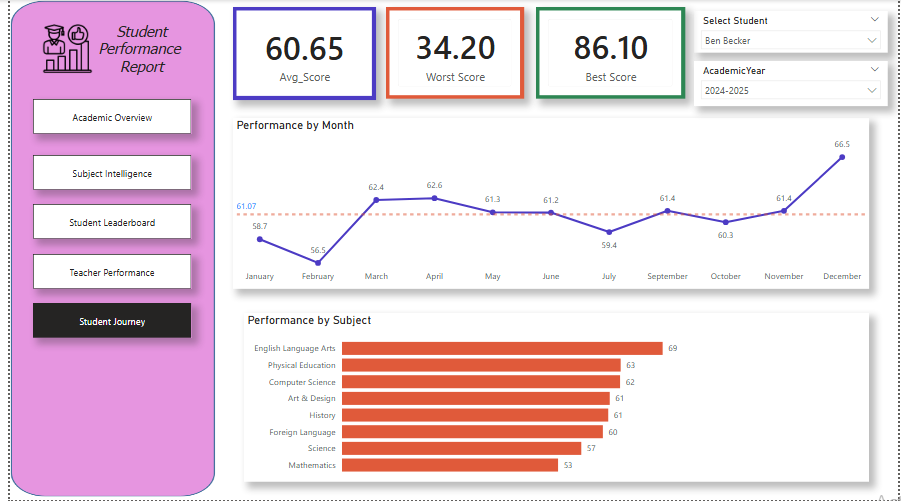

What the dashboard file says about the page in this screenshot:
{"tool":"powerbi","page":{"name":"Student Journey","canvas":[1280,720],"ordinal":4},"visuals":[{"type":"slicer","fields":{"Values":["DimStudents.FullName"]},"box":[985,15.8,279.4,60.5],"z":0},{"type":"cardVisual","title":"Avg Score","fields":{"Data":["Measures (2).Avg_Score"]},"box":[321.1,10.1,205.9,133.9],"z":1000},{"type":"cardVisual","title":"Worst Score","fields":{"Data":["Measures (2).Worst Score"]},"box":[541.4,10.1,198.7,132.5],"z":2000},{"type":"lineChart","title":"Performance by Month","fields":{"Y":["Measures (2).Avg_Score"],"Category":["DimCalendar.Date.Variation.Date Hierarchy.Month"]},"box":[321.1,169.9,915.8,246.2],"z":3000},{"type":"cardVisual","title":"Best Score","fields":{"Data":["Measures (2).student_Avg_Weighted_Average"]},"box":[757.4,10.1,214.6,132.5],"z":4000},{"type":"clusteredBarChart","title":"Performance by Subject","fields":{"Category":["DimSubjects.SubjectName"],"Y":["Measures (2).Avg_Score"]},"box":[337,450.7,900,243.4],"z":5000},{"type":"slicer","fields":{"Values":["DimCalendar.AcademicYear"]},"box":[985,87.8,279.4,64.8],"z":6000},{"type":"image","box":[0,0,296.6,715.7],"z":7000},{"type":"pageNavigator","box":[33.1,142.6,229,50.4],"z":8000},{"type":"pageNavigator","box":[33.1,436.3,229,50.4],"z":9000},{"type":"pageNavigator","box":[33.1,365.8,229,50.4],"z":10000},{"type":"pageNavigator","box":[33.1,293.8,229,50.4],"z":11000},{"type":"pageNavigator","box":[33.1,223.2,229,50.4],"z":12000},{"type":"image","box":[40.3,34.6,85,70.6],"z":13000},{"type":"textbox","box":[116.6,27.4,145.4,86.4],"z":14000}]}

Visuals, with their boxes in screenshot pixels (x1, y1, x2, y2), scaled from the page's 1280x720 canvas onto the 901x501 screenshot:
slicer - DimStudents.FullName: select_region(693, 11, 890, 53)
"Avg Score" cardVisual: select_region(226, 7, 371, 100)
"Worst Score" cardVisual: select_region(381, 7, 521, 99)
"Performance by Month" lineChart: select_region(226, 118, 871, 290)
"Best Score" cardVisual: select_region(533, 7, 684, 99)
"Performance by Subject" clusteredBarChart: select_region(237, 314, 871, 483)
slicer - DimCalendar.AcademicYear: select_region(693, 61, 890, 106)
image: select_region(0, 0, 209, 498)
pageNavigator: select_region(23, 99, 184, 134)
pageNavigator: select_region(23, 304, 184, 339)
pageNavigator: select_region(23, 255, 184, 290)
pageNavigator: select_region(23, 204, 184, 240)
pageNavigator: select_region(23, 155, 184, 190)
image: select_region(28, 24, 88, 73)
textbox: select_region(82, 19, 184, 79)
